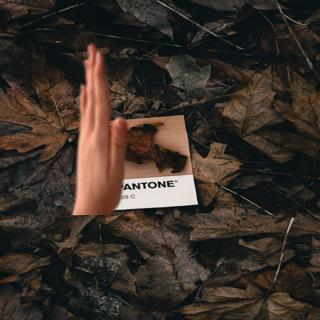Right: (71, 34, 131, 214)
